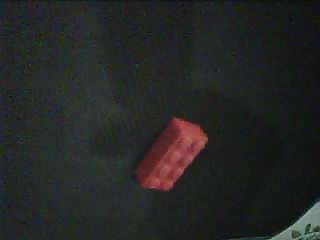lego: (132, 116, 209, 192)
